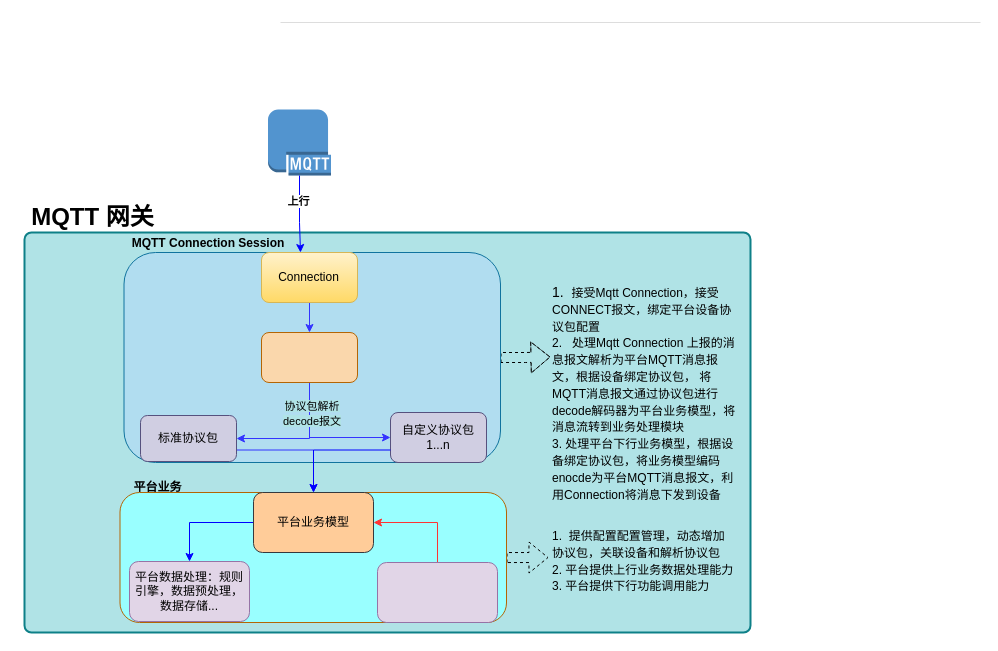
The diagram is 998 pixels wide and 651 high, and some of its shapes have lost their labels. The centre of each missing label's shape, as x and y in pixels:
"客户端" belongs at point (299, 142).
"平台MQTT消息 模型" belongs at point (309, 357).
"平台功能调用" belongs at point (437, 592).
